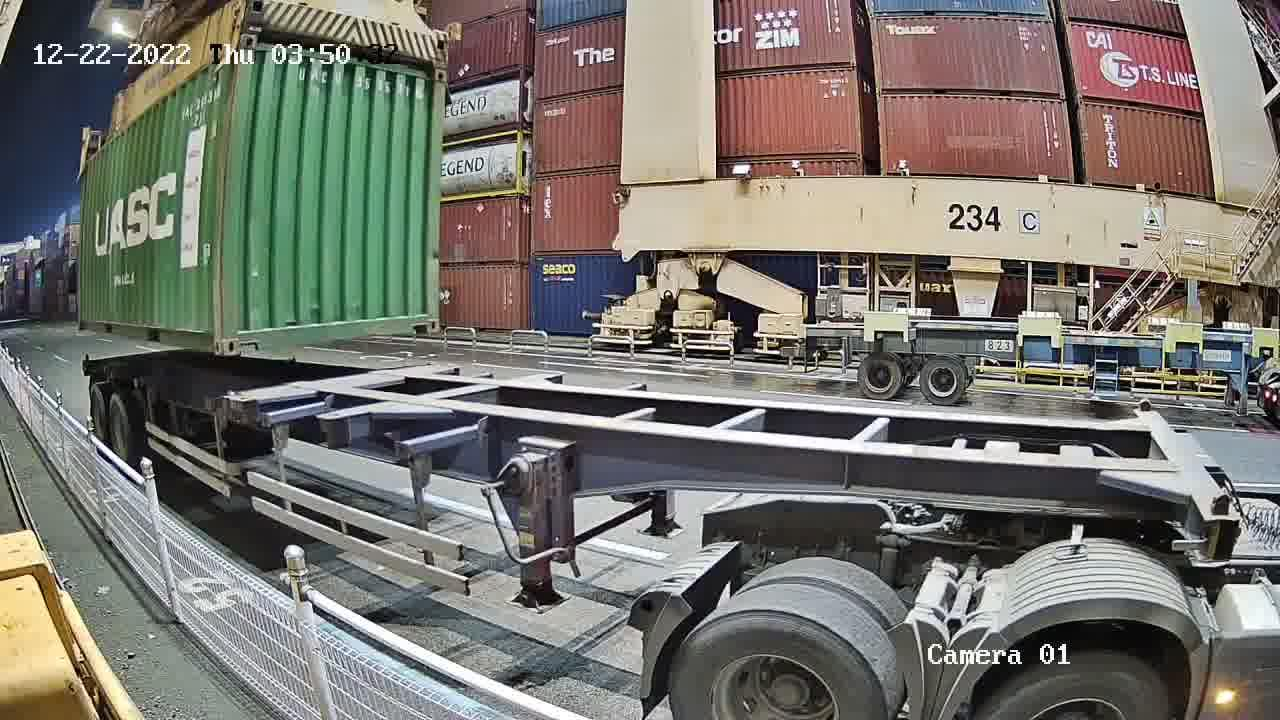Chassis: (233, 365, 457, 405), (224, 361, 433, 397)
Hole_L: (223, 319, 258, 354)
Hole_R: (197, 320, 223, 356), (414, 301, 439, 335)
Tire: (112, 395, 129, 467), (89, 384, 107, 448)
